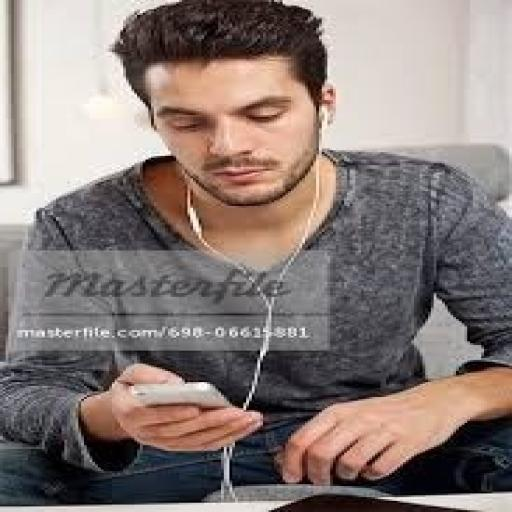listening_to_music: (0, 0, 509, 505)
